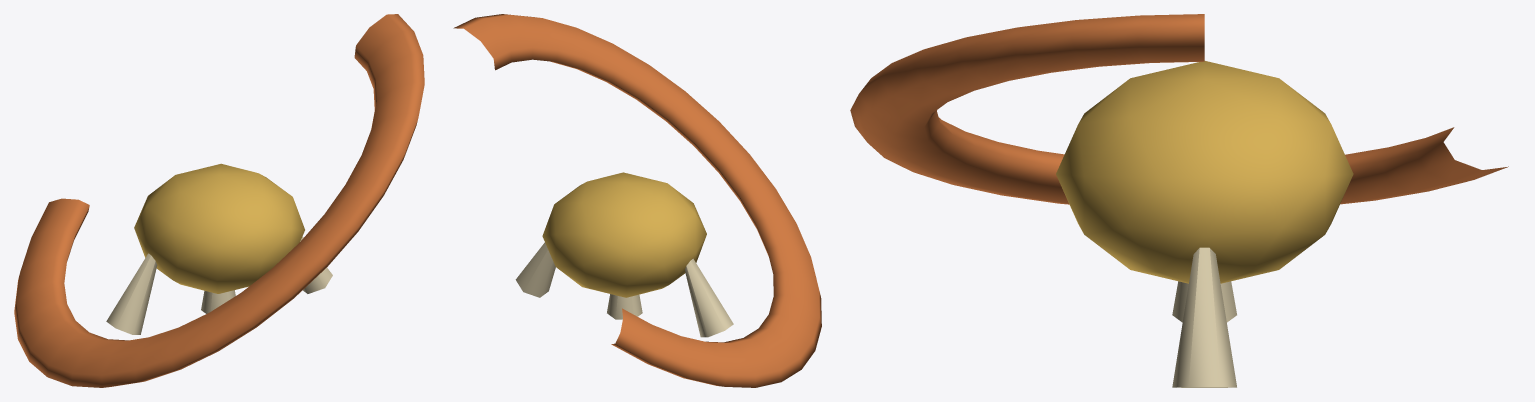
The model's file is polearm.glb.
3 views of the same model, side by side, from view 1: azimuth 30°, elevation 25°; view 2: azimuth 150°, elevation 25°; view 3: azimuth 270°, elevation 25° (orthographic). The views are drawn at different scales.
Parts seen in each view (by area): view 1: polearm_arc, polearm_impact, polearm_shard_0, polearm_shard_1, polearm_shard_2; view 2: polearm_arc, polearm_impact, polearm_shard_0, polearm_shard_2, polearm_shard_1; view 3: polearm_impact, polearm_arc, polearm_shard_2, polearm_shard_1.
Boxes of the visible parts, bbox=[...] form: polearm_arc: bbox=[14, 14, 424, 387]; polearm_impact: bbox=[134, 163, 304, 293]; polearm_shard_0: bbox=[106, 253, 157, 334]; polearm_shard_1: bbox=[201, 290, 235, 313]; polearm_shard_2: bbox=[300, 236, 332, 293]; polearm_arc: bbox=[453, 14, 821, 387]; polearm_impact: bbox=[542, 172, 706, 297]; polearm_shard_0: bbox=[685, 258, 733, 337]; polearm_shard_2: bbox=[515, 242, 555, 297]; polearm_shard_1: bbox=[607, 294, 642, 319]; polearm_impact: bbox=[1056, 61, 1353, 283]; polearm_arc: bbox=[850, 14, 1508, 204]; polearm_shard_2: bbox=[1172, 247, 1236, 387]; polearm_shard_1: bbox=[1172, 281, 1236, 322].
Size of what is drawn, in the model's own units: 2.64 by 1.96 by 2.48.
